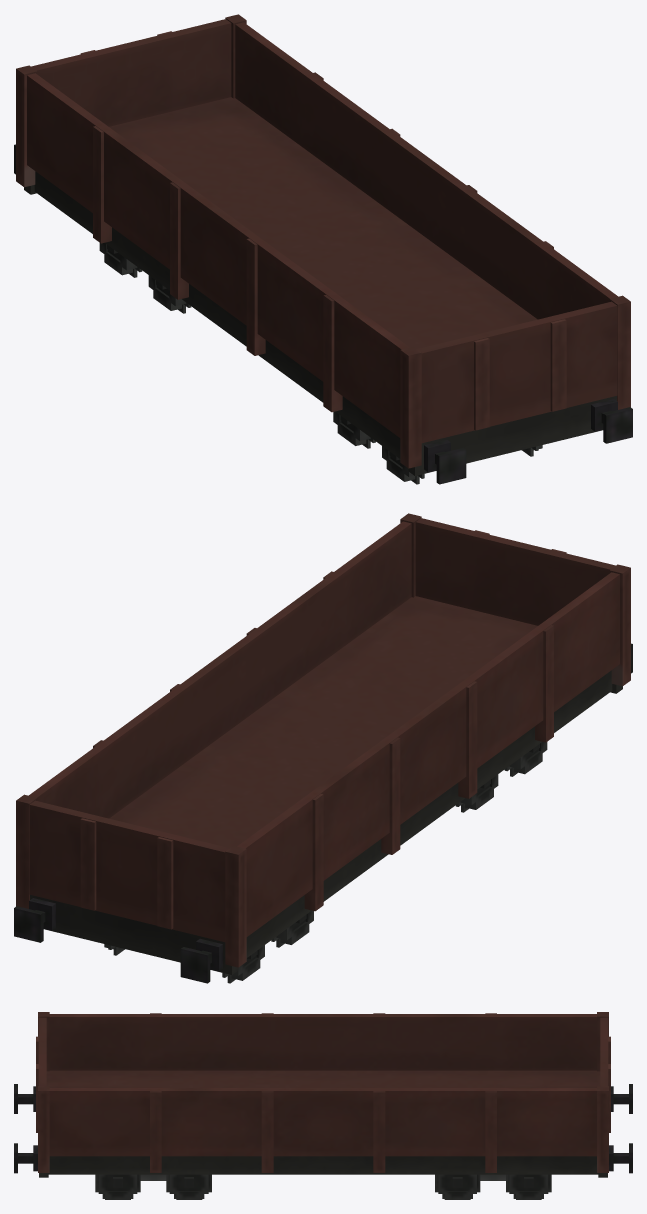
File: moretrains_wagon_gondola.obj
3 views of the same model, one above another, from view 1: azimuth 30°, elevation 25°; view 2: azimuth 150°, elevation 25°; view 3: azimuth 270°, elevation 25° (orthographic). The views are drawn at different scales.
Visible parts, largest first — view 1: Cube, Cube.005_Cube.002, Cube.006_Cube.008, Cube.008_Cube.007, Cube.002_Cube.003, gondola_wagon_Cube.033; view 2: Cube, Cube.005_Cube.002, Cube.006_Cube.008, Cube.008_Cube.007, Cube.002_Cube.003, gondola_wagon_Cube.033; view 3: Cube, Cube.006_Cube.008, Cube.005_Cube.002, gondola_wagon_Cube.033, Cube.002_Cube.003, Cube.008_Cube.007, Cube.003_Cube.004.
Part boxes in pixels (x1,y1,x2,y2): Cube: (27,19,617,443); Cube.005_Cube.002: (16,14,630,468); Cube.006_Cube.008: (24,171,616,475); Cube.008_Cube.007: (80,31,566,430); Cube.002_Cube.003: (14,144,632,484); gondola_wagon_Cube.033: (99,243,542,484); Cube: (29,518,619,942); Cube.005_Cube.002: (16,513,630,967); Cube.006_Cube.008: (30,670,622,974); Cube.008_Cube.007: (80,530,566,929); Cube.002_Cube.003: (14,643,632,983); gondola_wagon_Cube.033: (104,742,547,983); Cube: (38,1014,608,1156); Cube.006_Cube.008: (39,1156,607,1177); Cube.005_Cube.002: (38,1012,608,1172); gondola_wagon_Cube.033: (95,1174,551,1199); Cube.002_Cube.003: (14,1084,632,1173); Cube.008_Cube.007: (36,1036,610,1132); Cube.003_Cube.004: (140,1174,505,1180).
Size of the model in its own units: 16.71 by 12.51 by 55.34.
